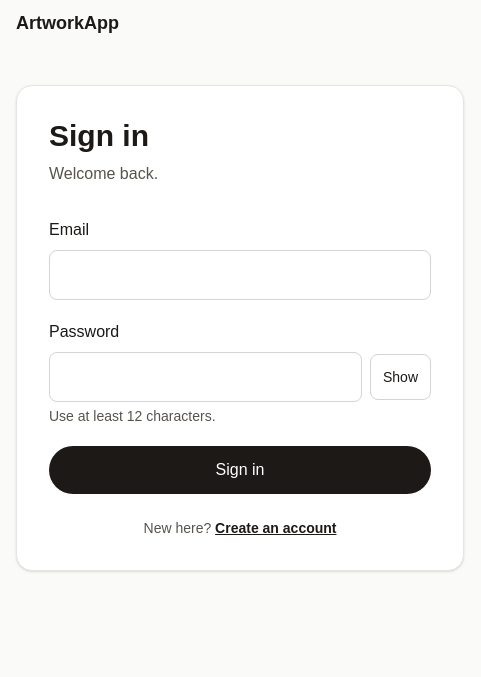
it: email authentication › maps validation fields and clears passwords after failed authentication
Type "person@example.com" into the field labelled "Email" at x=240, y=275, box left=49, top=250, right=431, bottom=300
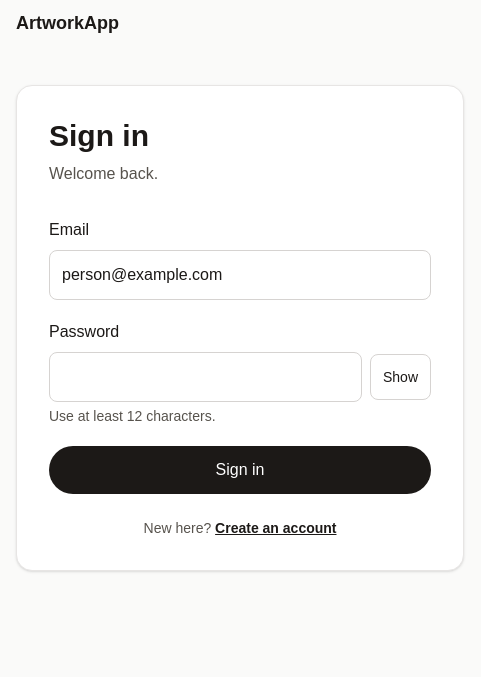
Type "long-password-123" into the password field labelled "Password" at x=206, y=377, box left=49, top=352, right=362, bottom=402
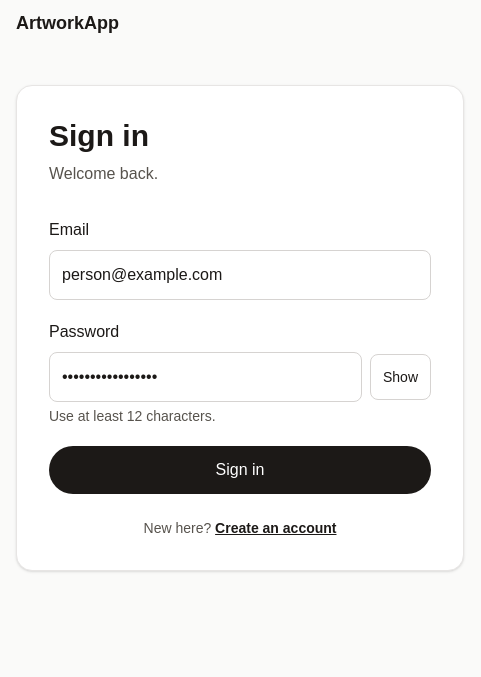
Click the button "Sign in" at x=240, y=470, box left=49, top=446, right=431, bottom=494
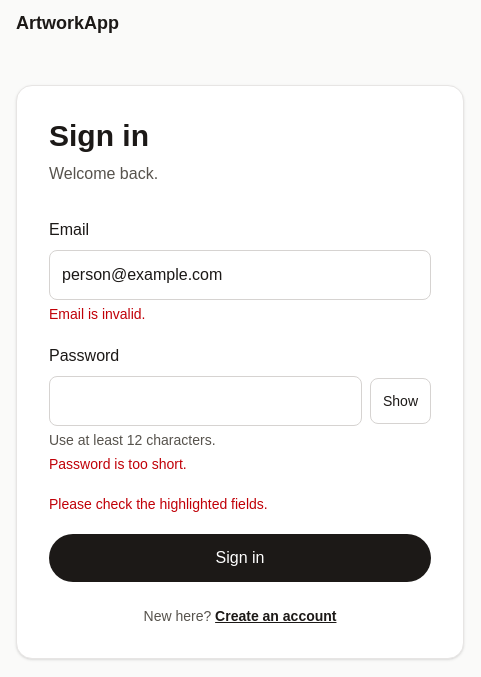
expect the text "Email is invalid." is shown: met, box left=49, top=306, right=146, bottom=322
expect the text "Password is too short." is shown: met, box left=49, top=456, right=187, bottom=472
expect the password field labelled "Password" is empty: met, box left=49, top=376, right=362, bottom=426
